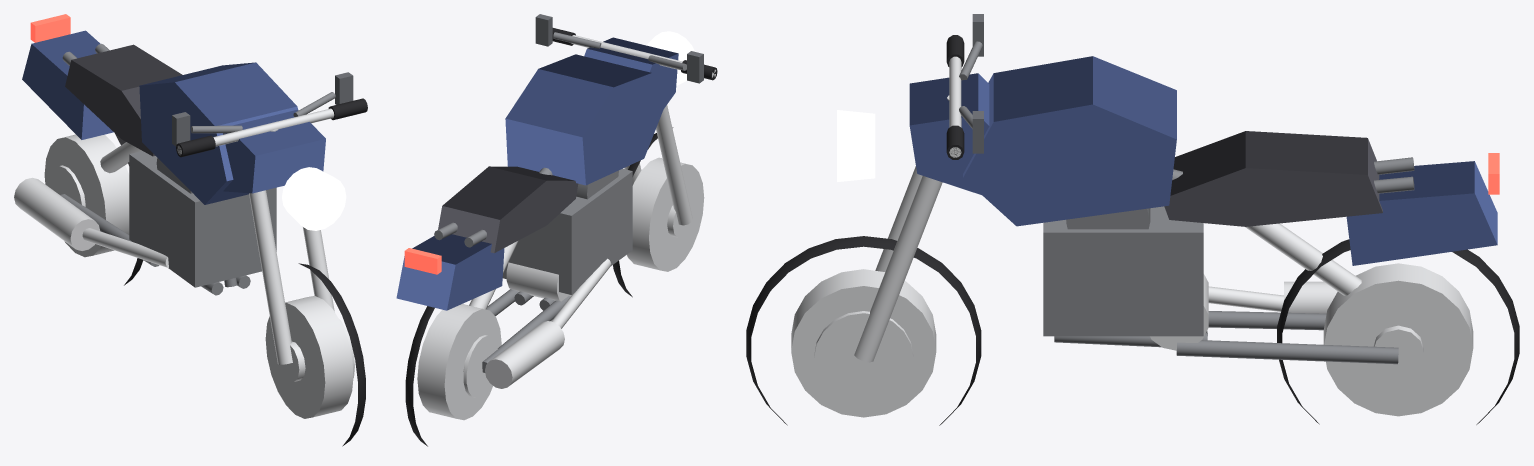
File: petrol_motorcycle.glb
The picture shows the model from 3 angles, left to right: view 1: azimuth 30°, elevation 25°; view 2: azimuth 150°, elevation 25°; view 3: azimuth 270°, elevation 25°; orthographic projection. The views are drawn at different scales.
Visible parts, largest first — view 1: engine, fuel_tank, front_wheel, seat, front_fairing, rear_wheel, rear_body_panel, front_fork, exhaust, headlight, handlebar, front_tyre (+6 smaller); view 2: fuel_tank, engine, seat, rear_wheel, front_wheel, rear_body_panel, exhaust, front_fairing, front_fork, rear_suspension, brake_rear, rear_tyre (+7 smaller); view 3: fuel_tank, engine, seat, rear_wheel, rear_body_panel, front_wheel, rear_suspension, brake_front, front_fairing, front_fork, front_tyre, headlight (+5 smaller).
Boxes of the visible parts, bbox=[...] form: engine: bbox=[129, 151, 276, 287]; fuel_tank: bbox=[139, 62, 298, 204]; front_wheel: bbox=[265, 296, 353, 418]; seat: bbox=[65, 44, 182, 156]; front_fairing: bbox=[223, 109, 325, 193]; rear_wheel: bbox=[44, 134, 129, 257]; rear_body_panel: bbox=[22, 30, 113, 139]; front_fork: bbox=[249, 190, 334, 364]; exhaust: bbox=[14, 177, 168, 267]; headlight: bbox=[282, 167, 346, 230]; handlebar: bbox=[176, 98, 367, 157]; front_tyre: bbox=[298, 263, 365, 446]; fuel_tank: bbox=[505, 54, 664, 185]; engine: bbox=[502, 168, 632, 301]; seat: bbox=[438, 166, 578, 253]; rear_wheel: bbox=[417, 304, 501, 420]; front_wheel: bbox=[627, 157, 704, 271]; rear_body_panel: bbox=[396, 234, 504, 310]; exhaust: bbox=[485, 258, 611, 388]; front_fairing: bbox=[584, 37, 678, 108]; front_fork: bbox=[624, 105, 692, 225]; rear_suspension: bbox=[469, 240, 569, 372]; brake_rear: bbox=[463, 335, 497, 397]; rear_tyre: bbox=[405, 306, 434, 446]; fuel_tank: bbox=[963, 56, 1176, 226]; engine: bbox=[1043, 206, 1208, 350]; seat: bbox=[1164, 131, 1382, 226]; rear_wheel: bbox=[1323, 263, 1473, 416]; rear_body_panel: bbox=[1346, 161, 1497, 265]; front_wheel: bbox=[791, 269, 936, 417]; rear_suspension: bbox=[1176, 223, 1398, 364]; brake_front: bbox=[814, 311, 913, 402]; front_fairing: bbox=[909, 73, 989, 194]; front_fork: bbox=[854, 166, 942, 362]; front_tyre: bbox=[746, 236, 981, 425]; headlight: bbox=[837, 110, 875, 181].
Bounding box in the file's own units: 0.68 × 1.11 × 2.03.
